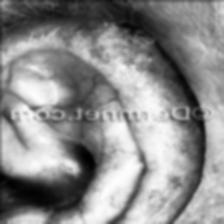Potentially Malignant Skin Tumors: (108, 19, 156, 40)
